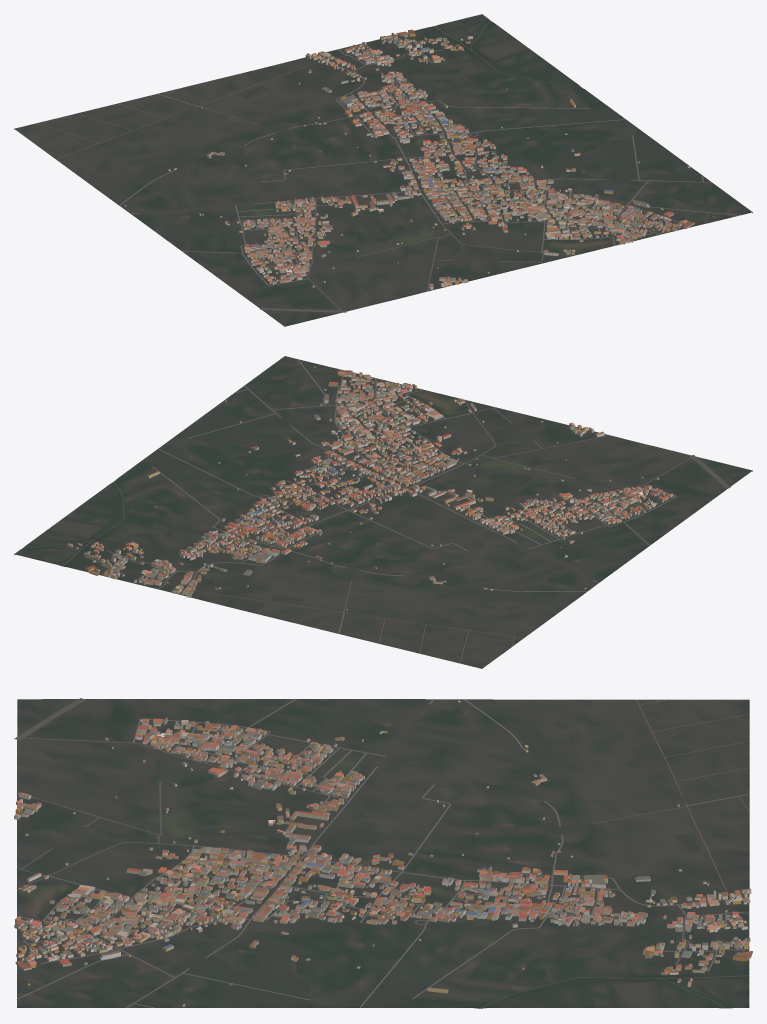
3 renders of one model, top to bottom at view 1: azimuth 30°, elevation 25°; view 2: azimuth 150°, elevation 25°; view 3: azimuth 270°, elevation 25°, orthographic. The views are drawn at different scales.
Visible parts, largest first — view 1: ground, buildings, roads; view 2: ground, buildings, roads; view 3: ground, buildings, roads.
Part boxes in pixels (x1,y1,x2,y2): ground: (14, 14, 752, 326); buildings: (124, 29, 715, 289); roads: (36, 37, 739, 312); ground: (14, 356, 752, 668); buildings: (67, 366, 673, 610); roads: (84, 359, 730, 663); ground: (17, 699, 749, 1008); buildings: (14, 700, 752, 1006); roads: (14, 698, 749, 1007).
Size of the model in its own units: 1405 by 16.19 by 1414.
